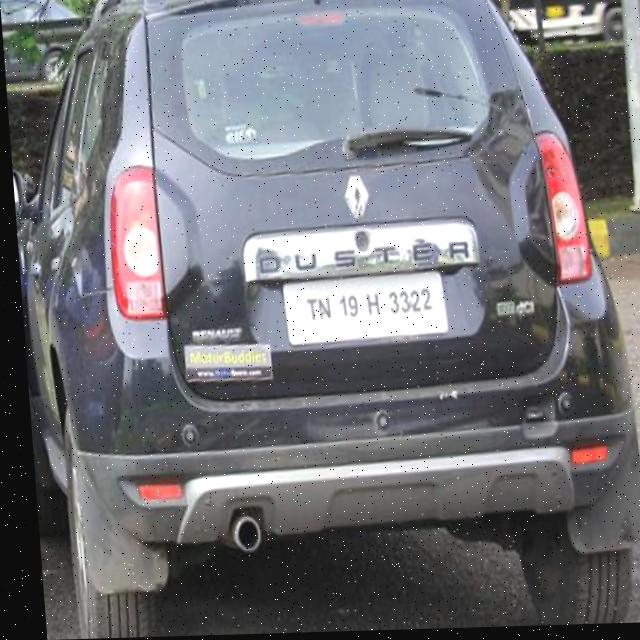plate: (277, 276, 445, 344)
